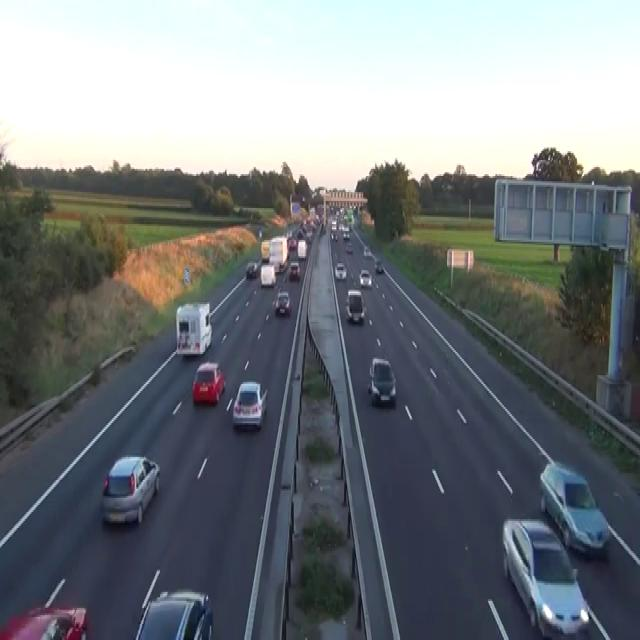Car: (501, 518, 590, 638), (539, 461, 610, 556), (132, 569, 213, 638), (0, 578, 88, 638), (101, 455, 160, 525), (232, 380, 267, 430), (191, 361, 225, 403), (367, 358, 396, 406), (38, 610, 87, 638), (345, 288, 365, 322), (274, 290, 291, 314), (359, 268, 372, 286), (245, 261, 258, 279), (334, 261, 346, 279), (289, 260, 300, 279), (374, 258, 383, 274), (288, 236, 297, 249), (296, 229, 305, 240), (305, 229, 312, 242), (330, 231, 338, 242), (363, 244, 370, 256), (345, 242, 353, 252), (343, 229, 349, 240), (258, 228, 262, 238), (286, 230, 291, 238)
Truck: (175, 300, 212, 356), (268, 235, 289, 272), (260, 263, 276, 286), (260, 240, 270, 261)
